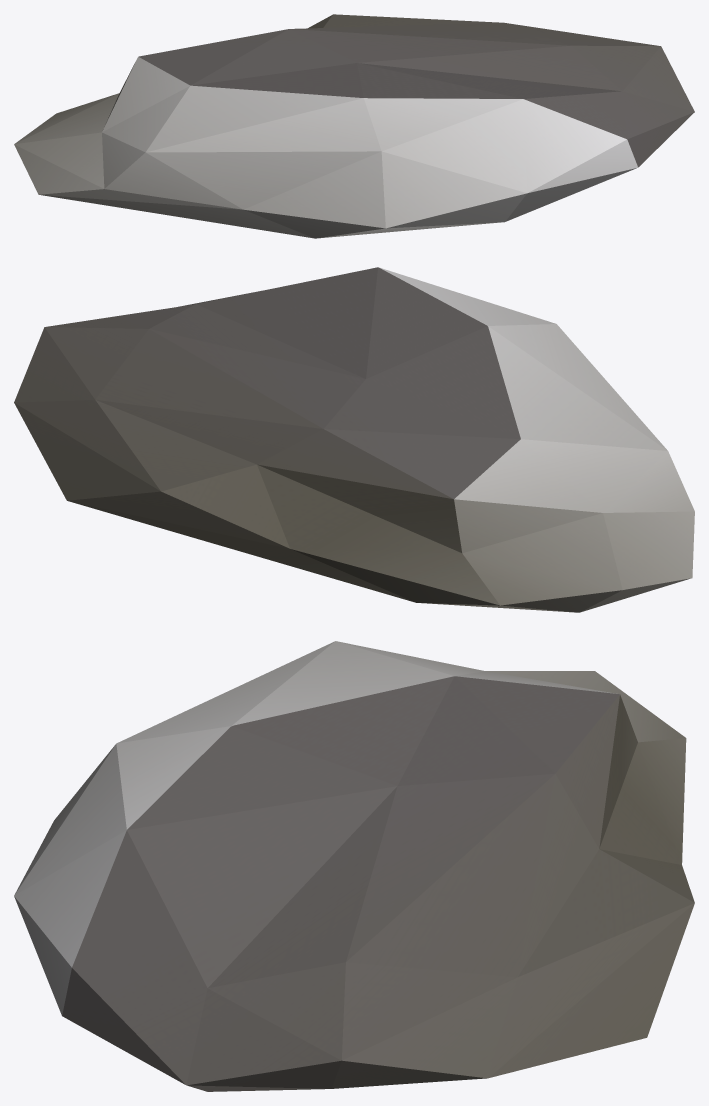
Rendered from rock6.fbx.
3 views of the same model, one above another, from view 1: azimuth 30°, elevation 25°; view 2: azimuth 150°, elevation 25°; view 3: azimuth 270°, elevation 25° (orthographic). The views are drawn at different scales.
Visible parts, largest first — view 1: ROCKS.006; view 2: ROCKS.006; view 3: ROCKS.006.
Boxes of the visible parts, x1,y1,x2,y2 form: ROCKS.006: [14, 14, 694, 238]; ROCKS.006: [14, 267, 694, 612]; ROCKS.006: [14, 641, 694, 1091].
Bounding box in the file's own units: 221 × 44.33 × 147.
